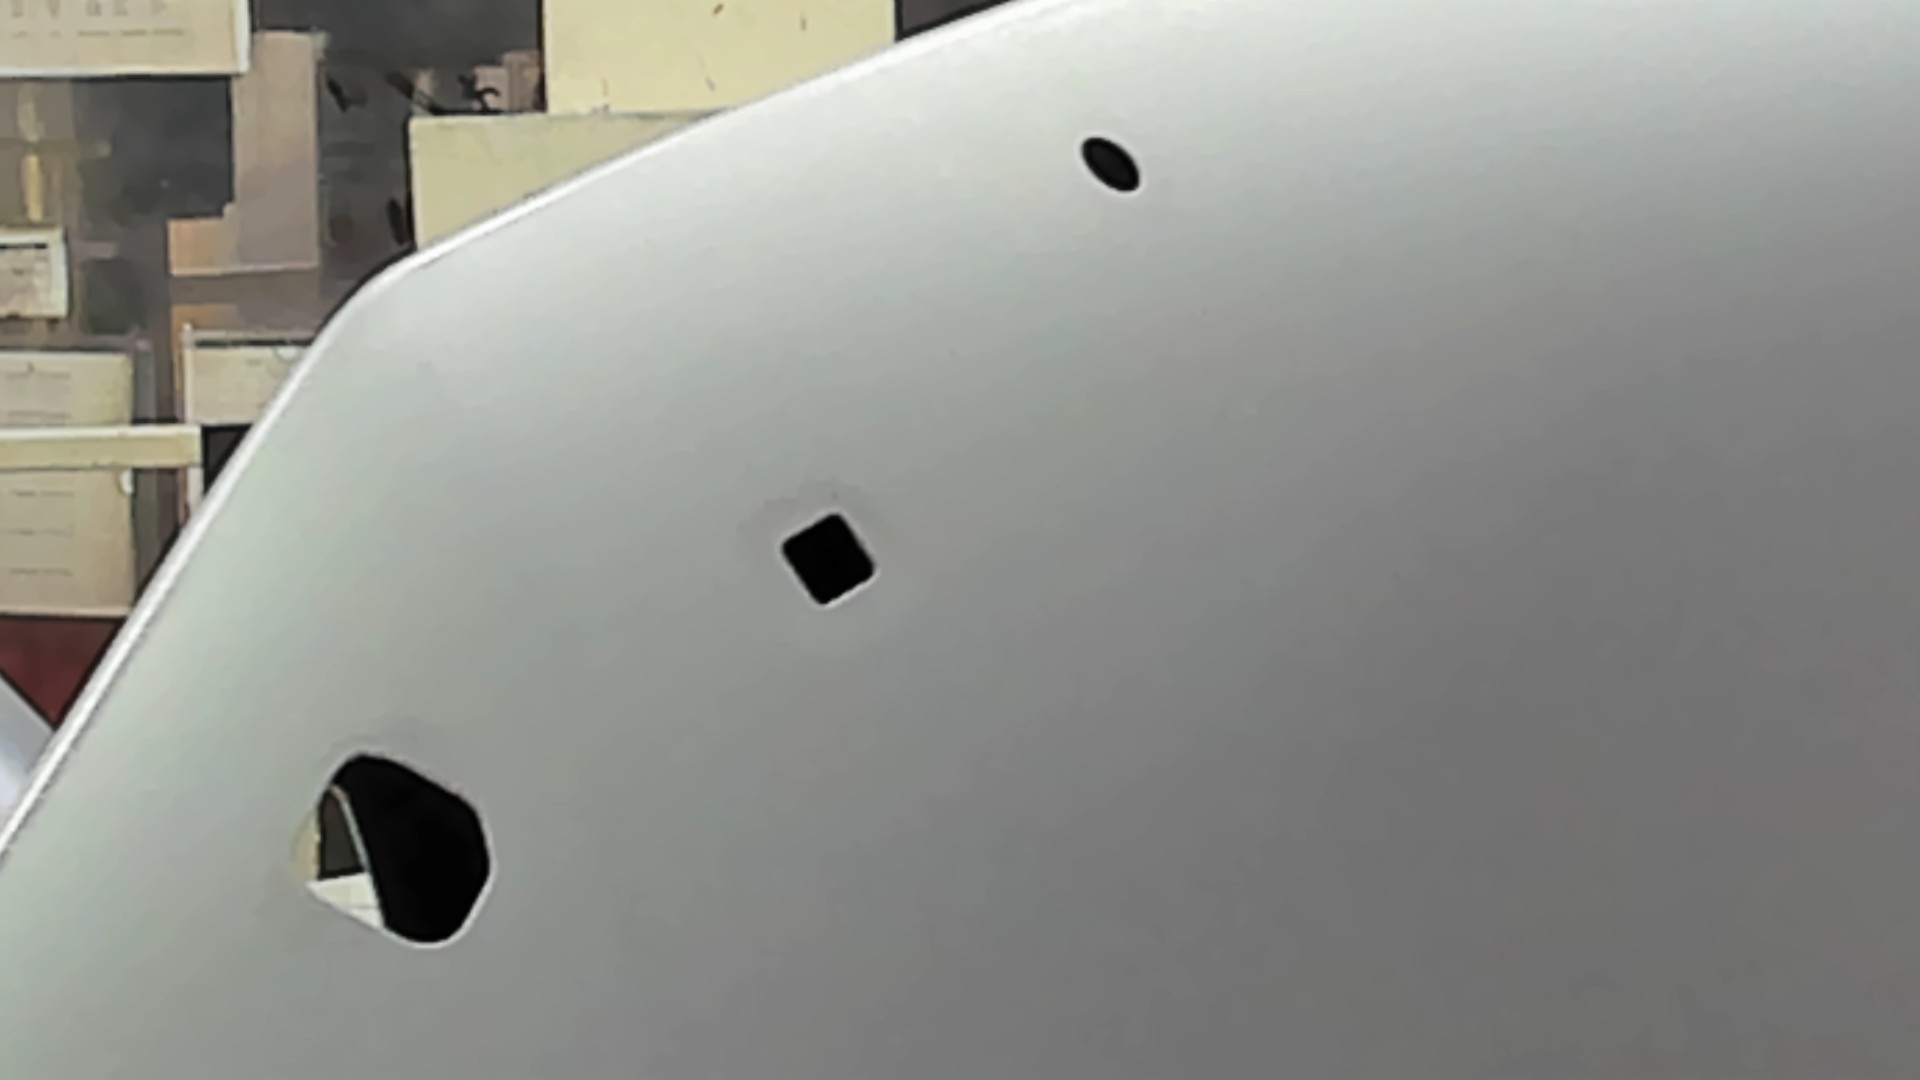chico: (1073, 132, 1146, 196)
grande: (282, 745, 502, 953)
mediano: (773, 506, 884, 615)
